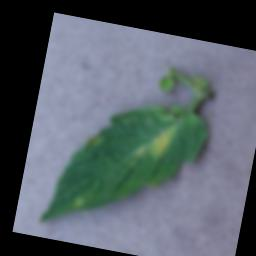Leaf_Mold: (129, 111, 179, 163)
